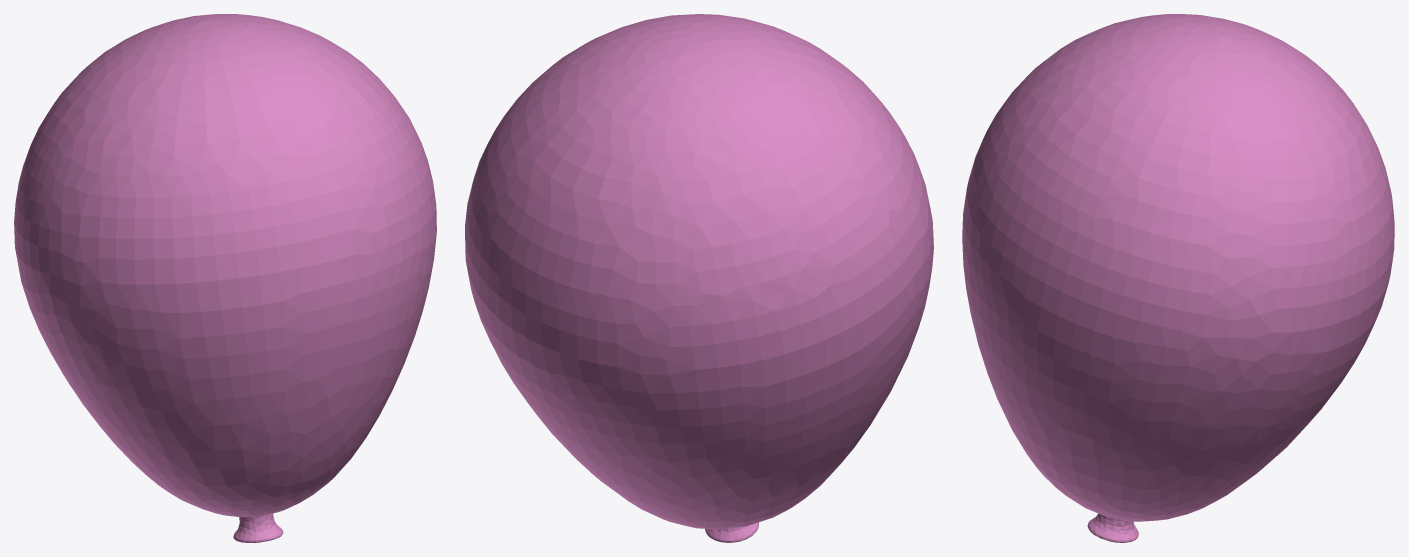
File: Lvl3_balloon_single.fbx
3 renders of one model, left to right at view 1: azimuth 30°, elevation 25°; view 2: azimuth 150°, elevation 25°; view 3: azimuth 270°, elevation 25°, orthographic. The views are drawn at different scales.
Visible parts, largest first — view 1: Balloon_single; view 2: Balloon_single; view 3: Balloon_single.
Part boxes in pixels (x1=…): Balloon_single: x1=14, y1=14, x2=436, y2=542; Balloon_single: x1=465, y1=14, x2=933, y2=542; Balloon_single: x1=962, y1=14, x2=1394, y2=542.
Size of the model in its own units: 2.33 by 2.86 by 2.24.
